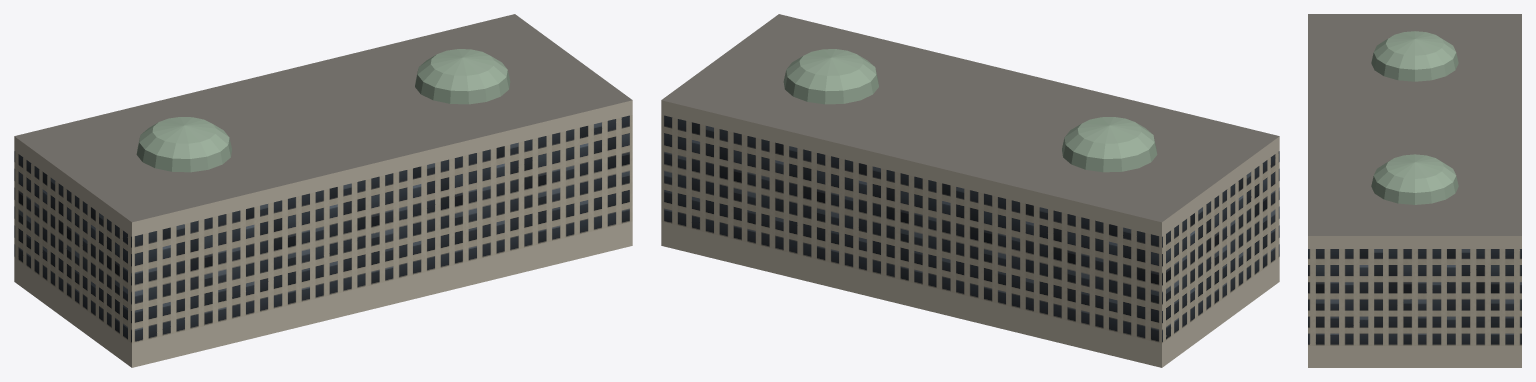
File: cultural_center.glb
The picture shows the model from 3 angles, left to right: view 1: azimuth 30°, elevation 25°; view 2: azimuth 150°, elevation 25°; view 3: azimuth 270°, elevation 25°; orthographic projection. The views are drawn at different scales.
Parts seen in each view (by area): view 1: cultural_center; view 2: cultural_center; view 3: cultural_center.
Part boxes in pixels (left/top/right/bottom): cultural_center: left=14, top=14, right=632, bottom=367; cultural_center: left=661, top=14, right=1279, bottom=367; cultural_center: left=1308, top=14, right=1521, bottom=367.
Size of the model in its own units: 108 by 35.5 by 44.
Materials: 2 (2 with a texture image).
